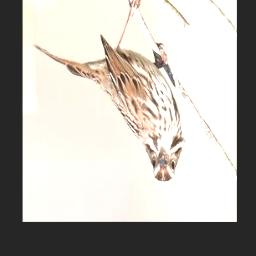Sparrow: (31, 0, 187, 184)
